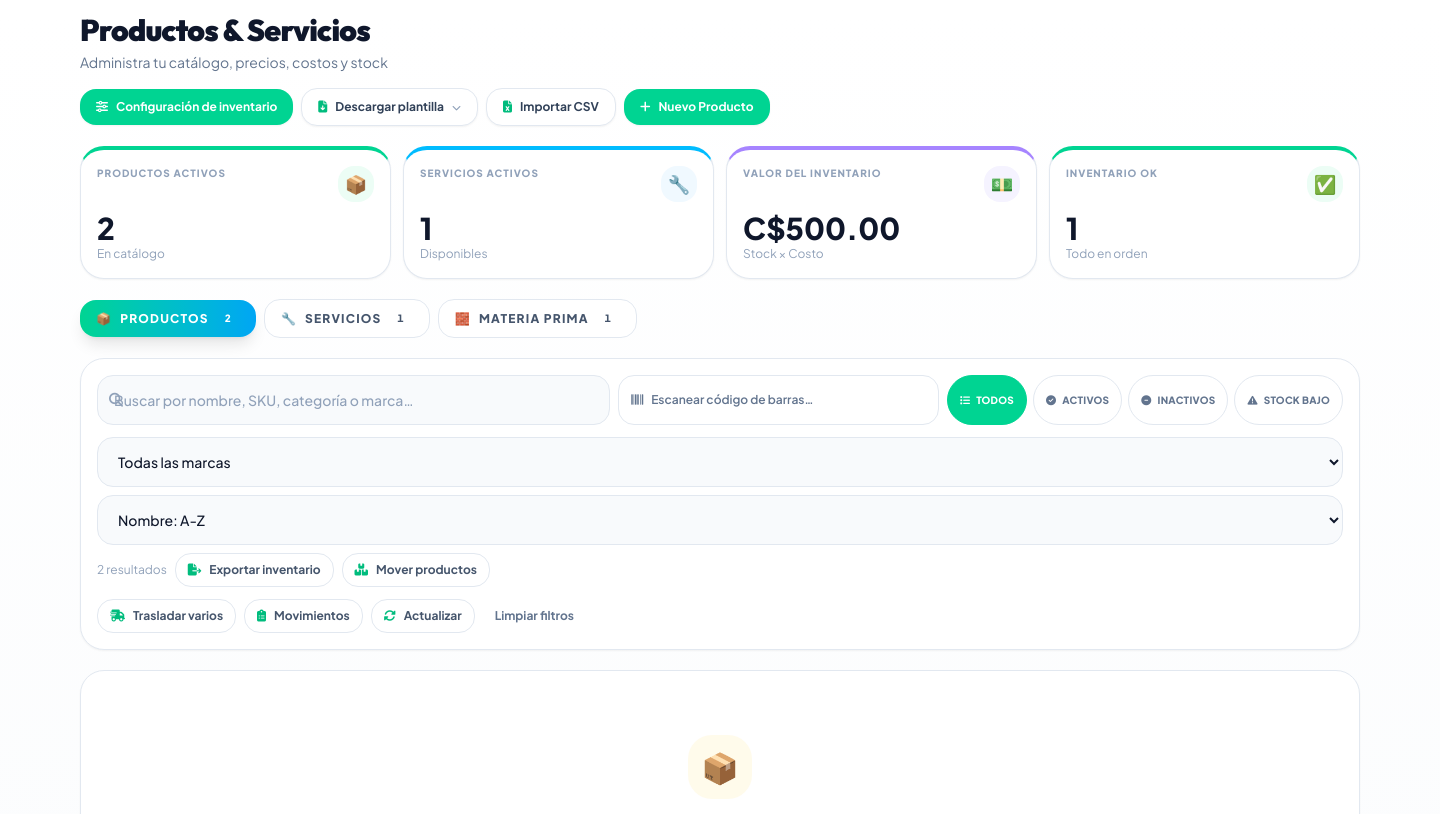
Test: CompanyProductsComponent › debe cambiar de pestaña y mostrar servicios
Click the button with test id "services-tab". click: (347, 319)
box: [264,299,430,338]
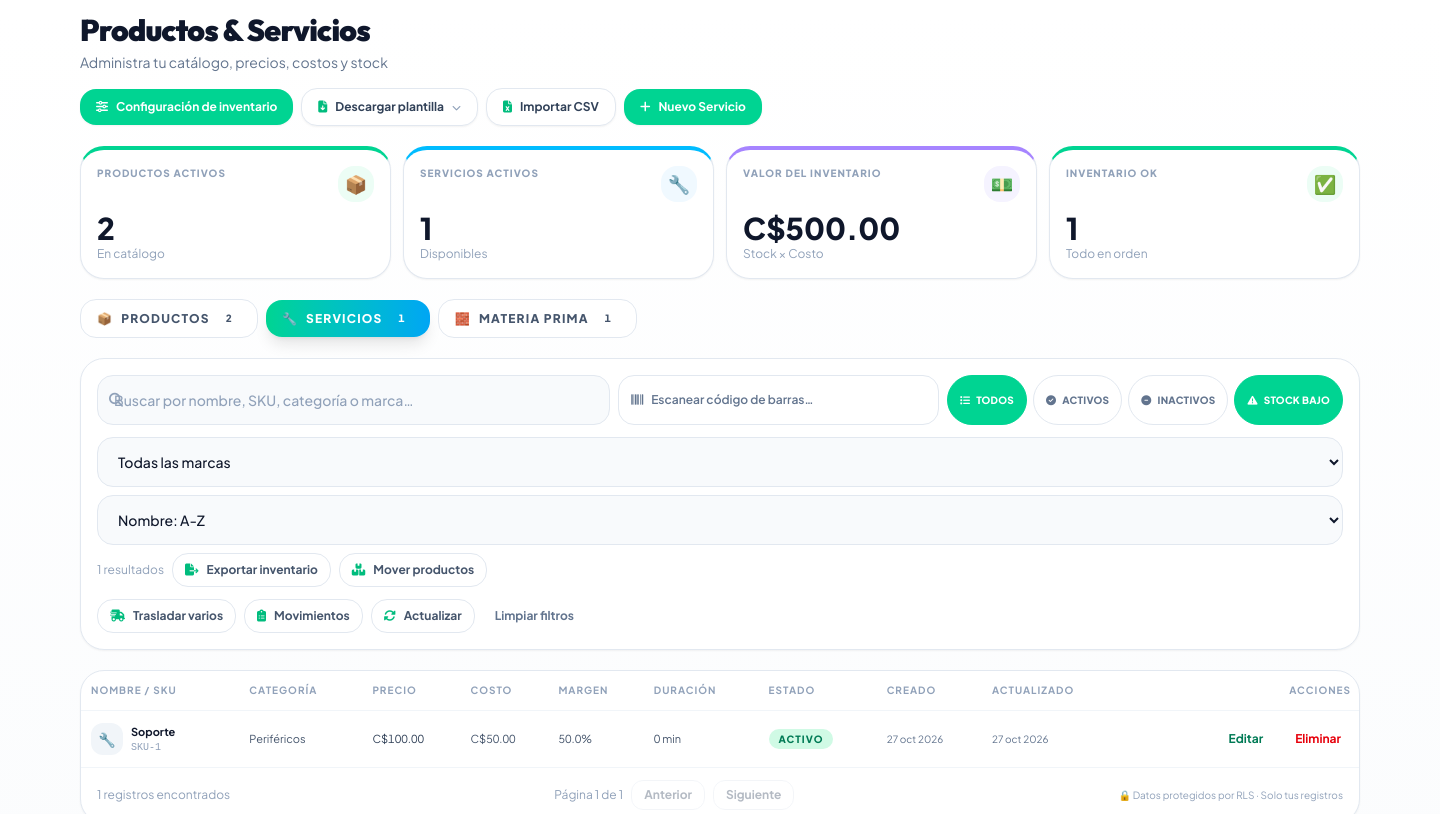
Expected: the row with test id "catalog-row" shows "Soporte", [131,725,175,738]
